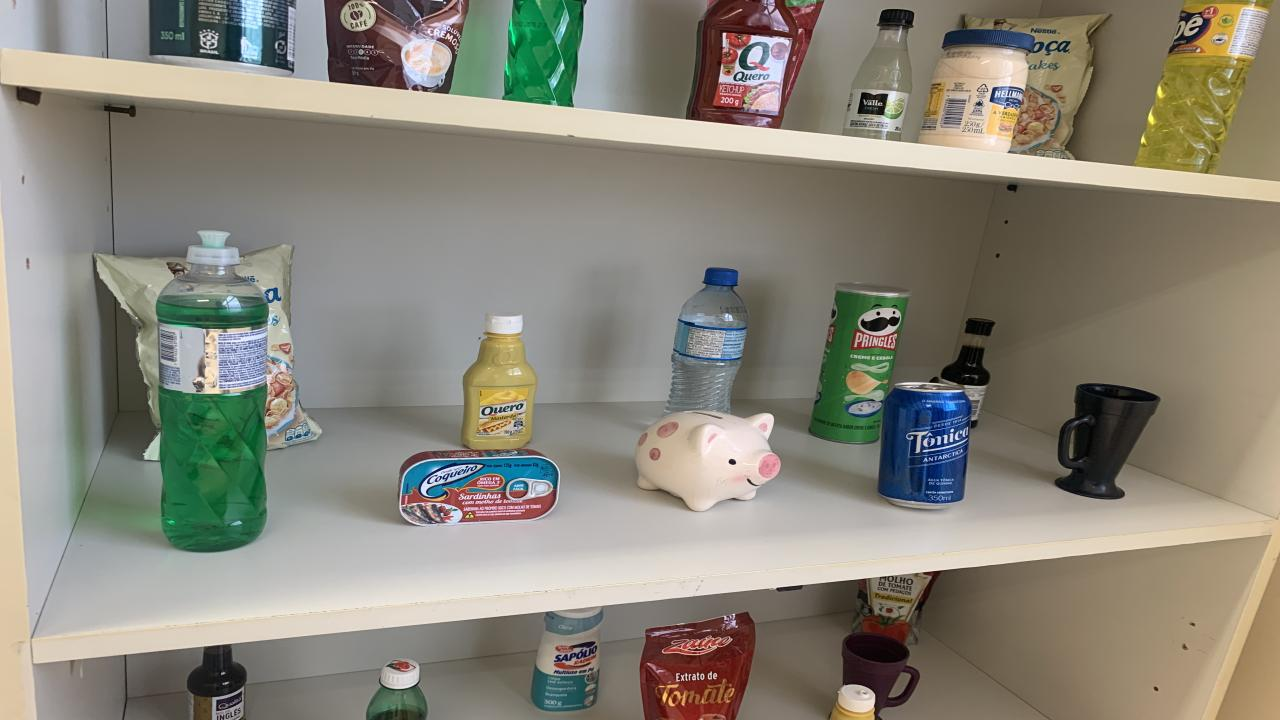Cleaner-Cleanup_Items: (530, 608, 602, 711)
Coffee-Pantry_Items: (325, 0, 468, 94)
Detergent-Cleanup_Items: (155, 231, 270, 551), (1135, 0, 1272, 172), (502, 0, 585, 107)
English_Sauce-Pantry_Items: (938, 317, 995, 428), (188, 645, 248, 720)
Flakes-Snacks: (965, 13, 1110, 159), (235, 246, 322, 448), (95, 253, 188, 428)
Guarana-Drinks: (365, 658, 428, 720)
Guarana_Can-Drinks: (150, 0, 295, 75)
Ketchup-Pantry_Items: (688, 0, 798, 128)
Mayonnaise-Pantry_Items: (918, 30, 1035, 152)
Mustard-Pantry_Items: (462, 313, 538, 450), (830, 684, 875, 720), (708, 368, 710, 377)
Pig_Safe-Miscellaneous: (635, 411, 780, 512)
Pringles-Snacks: (810, 283, 910, 442)
Soda-Drinks: (842, 9, 912, 141)
Tomato_Sauce-Pantry_Items: (640, 613, 755, 720), (850, 572, 940, 645), (782, 0, 822, 107)
Tonic-Drinks: (878, 382, 970, 510)
Tuna_Can-Pantry_Items: (398, 448, 560, 525)
Water_Bottle-Drinks: (665, 268, 750, 414)
